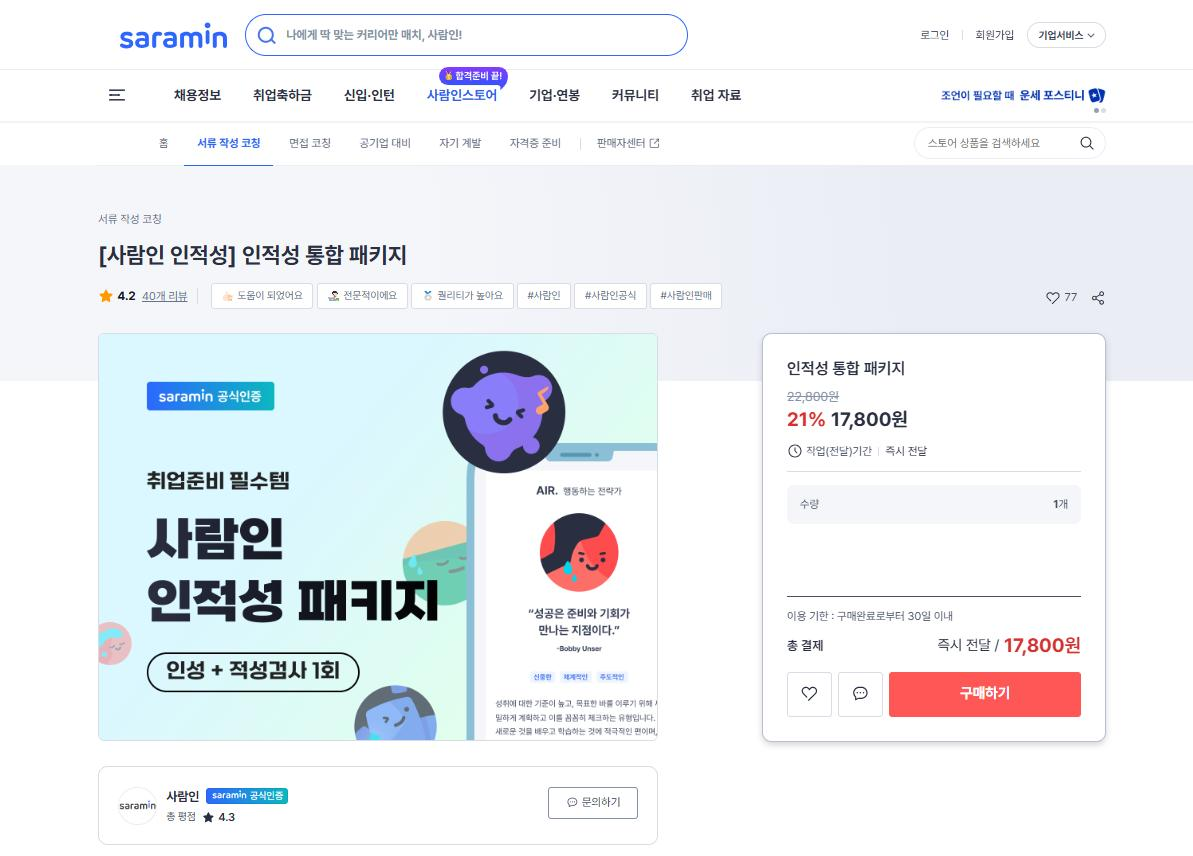button: (911, 671, 1080, 719), (410, 80, 506, 114), (406, 283, 518, 308), (545, 786, 615, 821), (605, 134, 695, 159), (325, 276, 400, 305), (504, 129, 578, 158), (703, 84, 784, 110), (850, 674, 899, 716), (158, 78, 222, 110), (331, 81, 400, 110), (595, 85, 674, 110), (430, 131, 489, 163), (215, 281, 309, 301), (782, 675, 830, 712), (201, 130, 268, 154), (531, 86, 594, 111), (290, 130, 346, 158), (352, 123, 412, 149), (258, 80, 315, 107), (576, 283, 643, 304), (660, 293, 731, 311), (917, 26, 970, 50), (1093, 284, 1126, 314), (148, 129, 186, 154), (990, 24, 1026, 49), (520, 283, 568, 301), (1038, 286, 1076, 308)
input_field: (248, 10, 684, 65), (925, 136, 1120, 156)
popup: (943, 80, 1115, 109)
